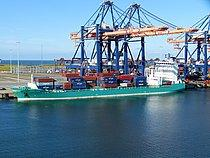Ship: (8, 54, 196, 106)
